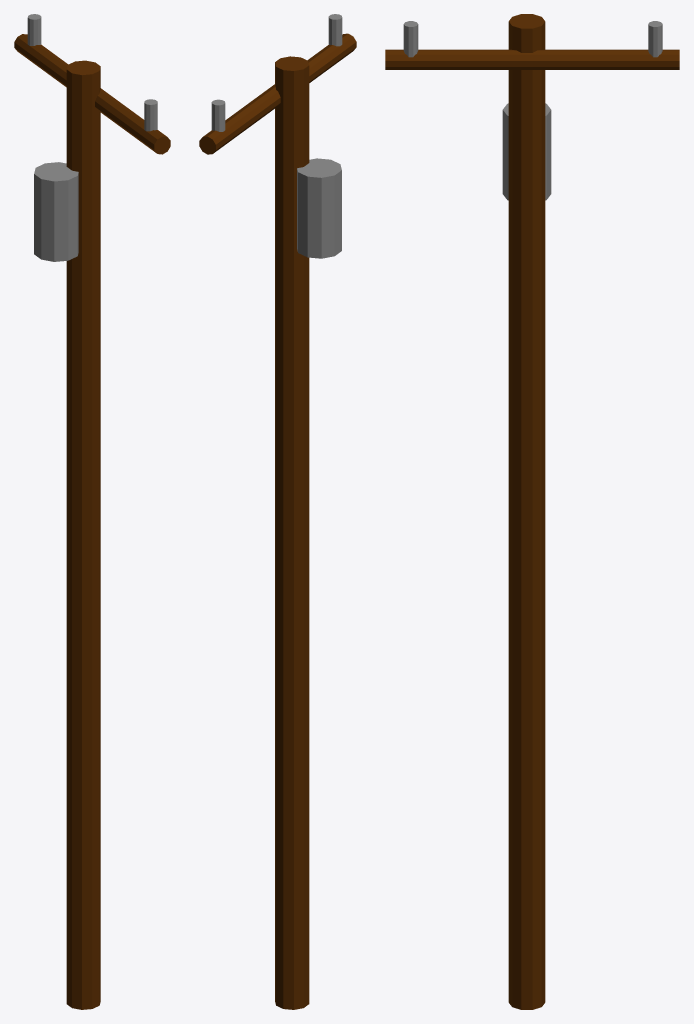
File: lp_powerlineSmall(Scaled)Colour.fbx
3 renders of one model, left to right at view 1: azimuth 30°, elevation 25°; view 2: azimuth 150°, elevation 25°; view 3: azimuth 270°, elevation 25°, orthographic. The views are drawn at different scales.
Parts seen in each view (by area): view 1: Cylinder, Cylinder.002, Cylinder.001, Cylinder.005, Cylinder.004; view 2: Cylinder, Cylinder.002, Cylinder.001, Cylinder.004, Cylinder.005; view 3: Cylinder, Cylinder.001, Cylinder.002.
Boxes of the visible parts, <box> form: Cylinder: <box>66,60,100,1009</box>; Cylinder.002: <box>34,162,78,261</box>; Cylinder.001: <box>14,34,170,154</box>; Cylinder.005: <box>27,14,41,45</box>; Cylinder.004: <box>144,99,157,131</box>; Cylinder: <box>275,56,309,1009</box>; Cylinder.002: <box>297,158,341,258</box>; Cylinder.001: <box>199,33,356,154</box>; Cylinder.004: <box>328,14,342,46</box>; Cylinder.005: <box>211,99,225,131</box>; Cylinder: <box>508,14,545,1009</box>; Cylinder.001: <box>385,49,679,69</box>; Cylinder.002: <box>502,103,551,200</box>.
Bounding box in the file's own units: 77.86 × 1063 × 288.
